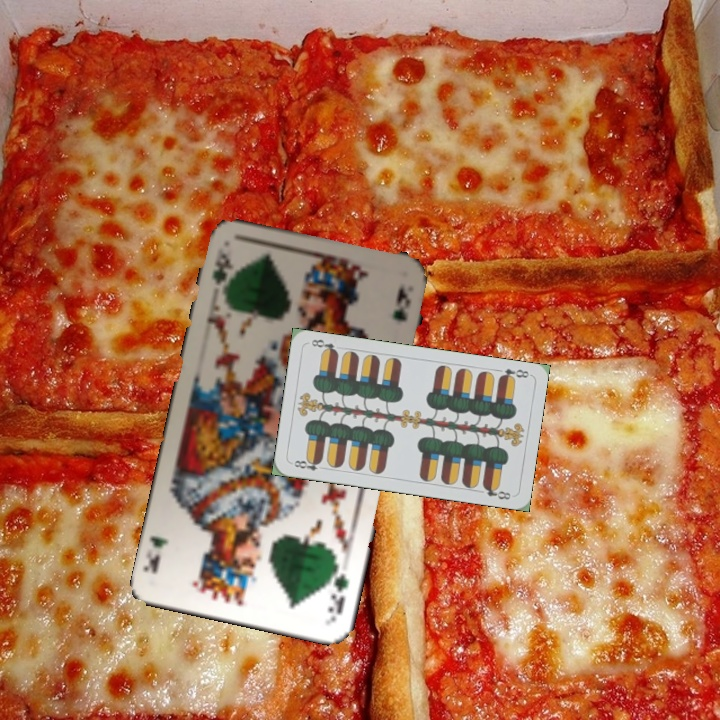E8: (288, 455, 324, 473), (495, 365, 531, 383)
GK: (324, 560, 352, 620), (208, 243, 235, 298)
